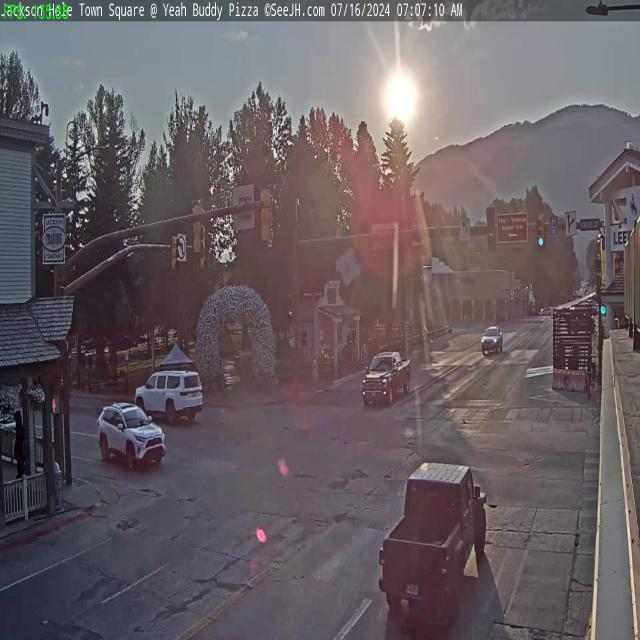pickup: (376, 460, 505, 639), (359, 346, 412, 412)
sedan: (481, 324, 502, 355)
suv: (98, 401, 166, 472), (134, 362, 207, 425)
traffic light: (260, 184, 273, 246), (190, 199, 203, 254), (487, 206, 496, 250), (536, 214, 546, 248), (171, 233, 179, 275)
